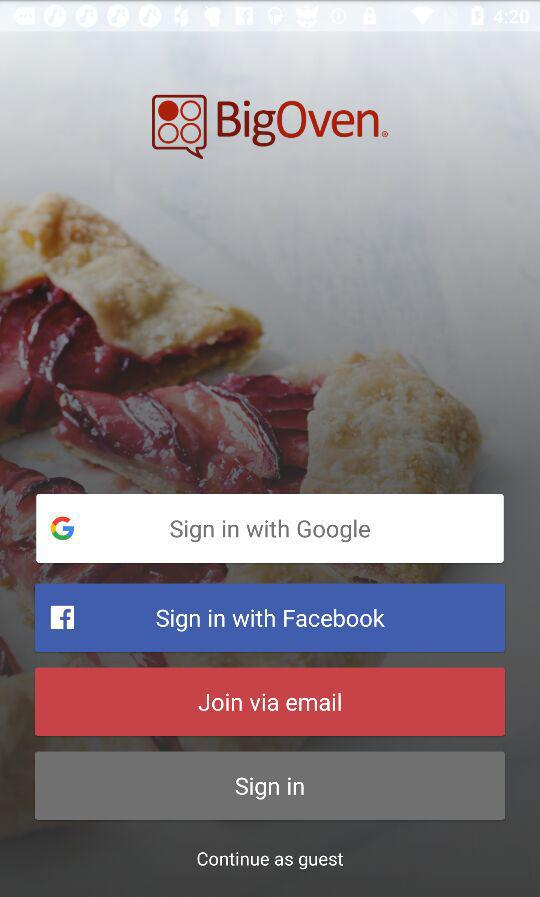BackgroundImage: (1, 33, 540, 897)
Image: (152, 95, 389, 161)
Text: (197, 851, 344, 870)
TextButton: (35, 751, 506, 821), (35, 667, 506, 737), (35, 583, 506, 653), (36, 494, 505, 564)
UpperTaskBar: (1, 1, 540, 33)
